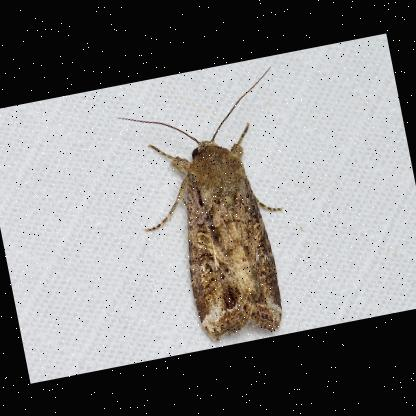Fall Armyworm Moth: (109, 63, 322, 356)
